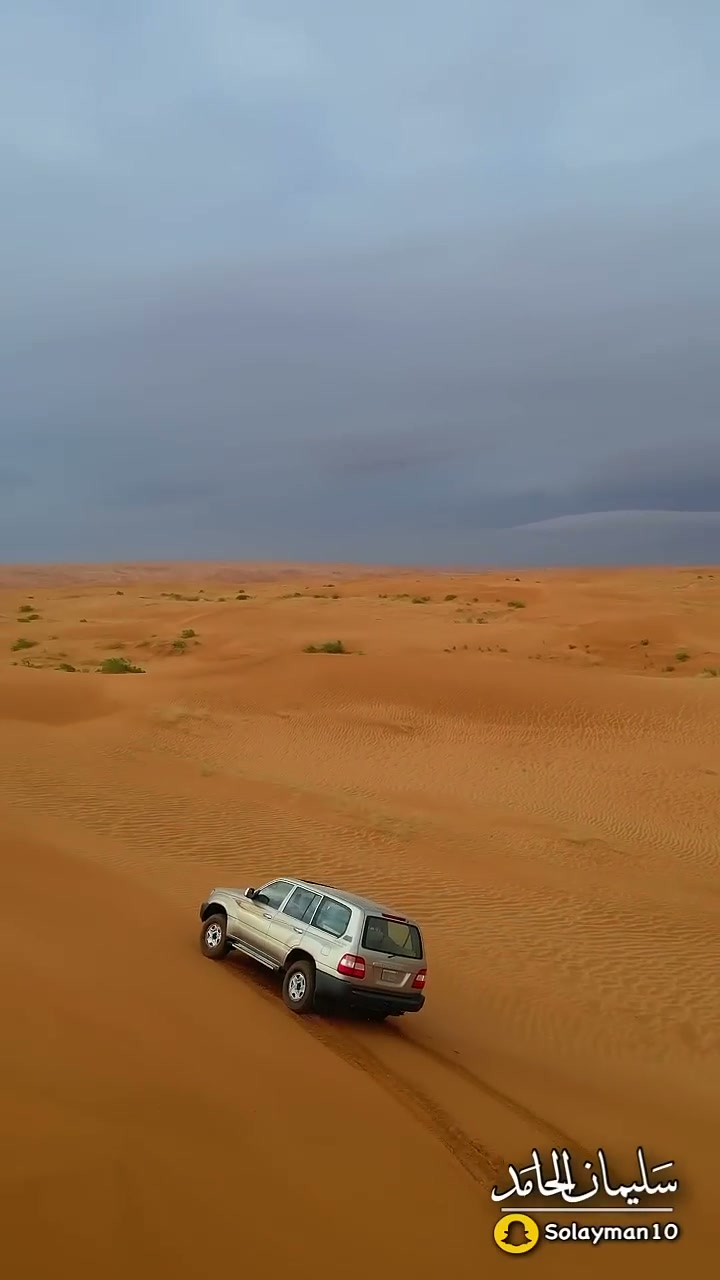vehicle_track: (298, 1016, 506, 1189), (300, 1016, 506, 1189), (303, 1019, 506, 1189), (385, 1026, 592, 1158)
